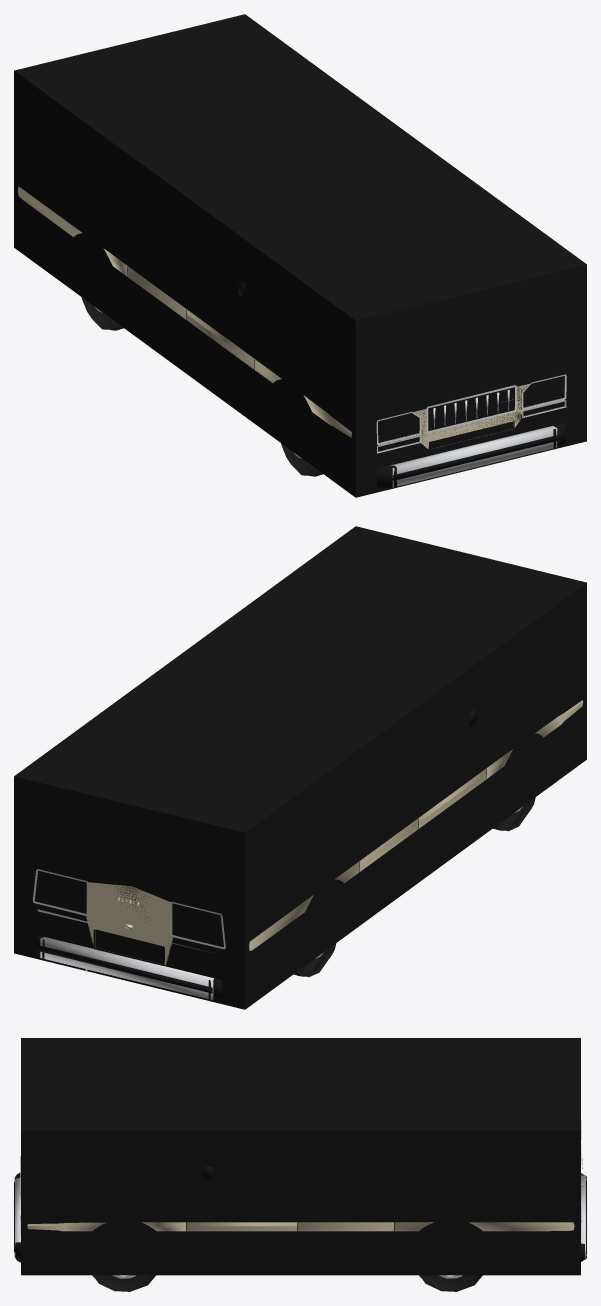
The model's file is atmaca_stock_lod2.glb.
The picture shows the model from 3 angles, top to bottom: view 1: azimuth 30°, elevation 25°; view 2: azimuth 150°, elevation 25°; view 3: azimuth 270°, elevation 25°; orthographic projection. The views are drawn at different scales.
Visible parts, largest first — view 1: col_body, trim, body; view 2: col_body, body, trim; view 3: col_body, body, trim, wheel_FL, wheel_RL.
Boxes of the visible parts, x1=… form: col_body: x1=14, y1=14, x2=586, y2=497; trim: x1=238, y1=279, x2=566, y2=487; body: x1=18, y1=186, x2=564, y2=451; col_body: x1=14, y1=526, x2=586, y2=1009; body: x1=35, y1=700, x2=583, y2=965; trim: x1=33, y1=708, x2=476, y2=999; col_body: x1=21, y1=1038, x2=580, y2=1275; body: x1=27, y1=1222, x2=574, y2=1231; trim: x1=14, y1=1119, x2=586, y2=1262; wheel_FL: x1=92, y1=1275, x2=155, y2=1291; wheel_RL: x1=419, y1=1275, x2=482, y2=1291.
Size of the model in its own units: 1.65 by 1.37 by 4.3.
